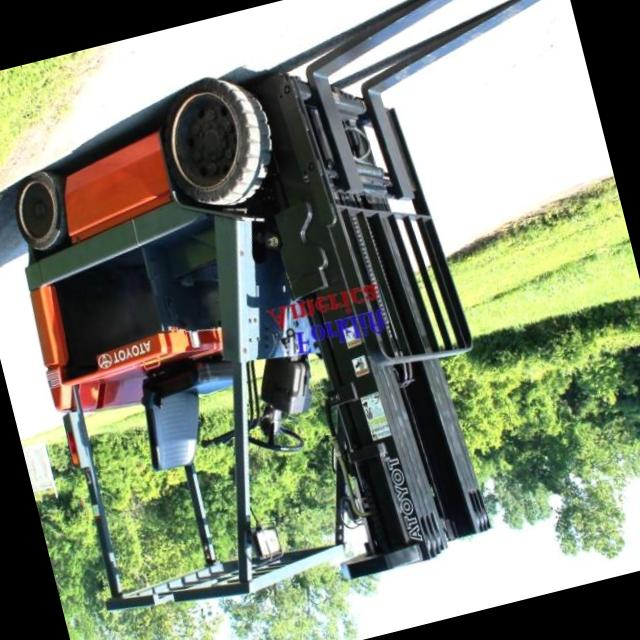forklift: (0, 17, 537, 640)
